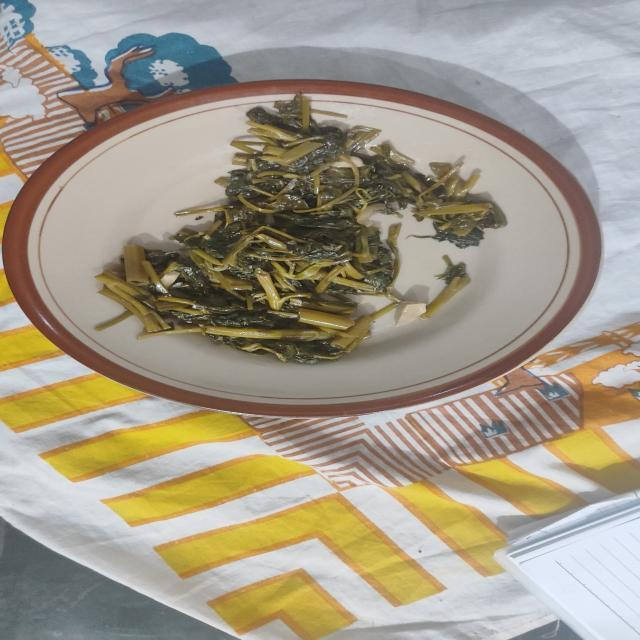tumis_kangkung: (95, 128, 494, 362)
